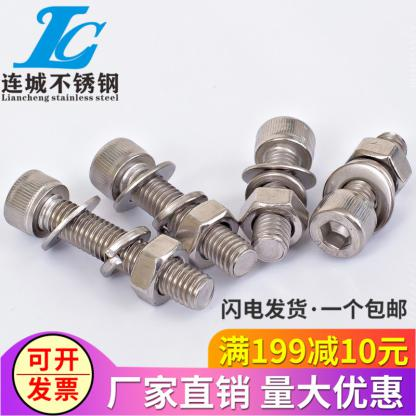FOD: (2, 166, 214, 312), (87, 136, 255, 277), (128, 235, 192, 310)
